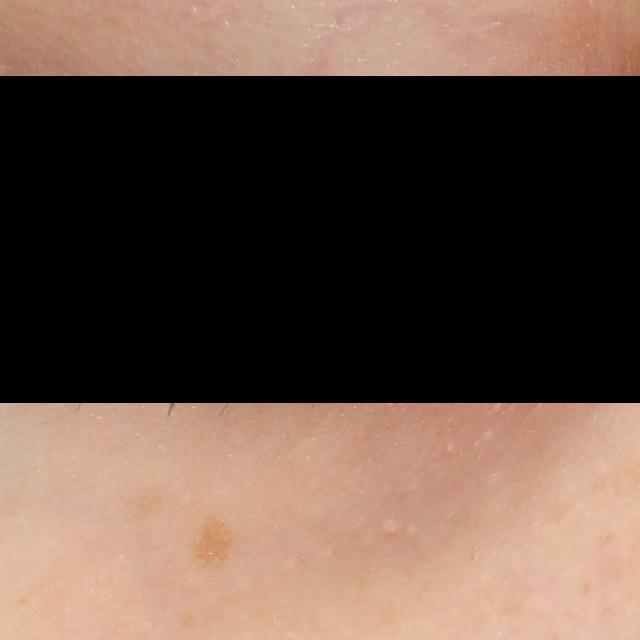melasma: (190, 512, 240, 573)
other: (380, 517, 402, 537)
